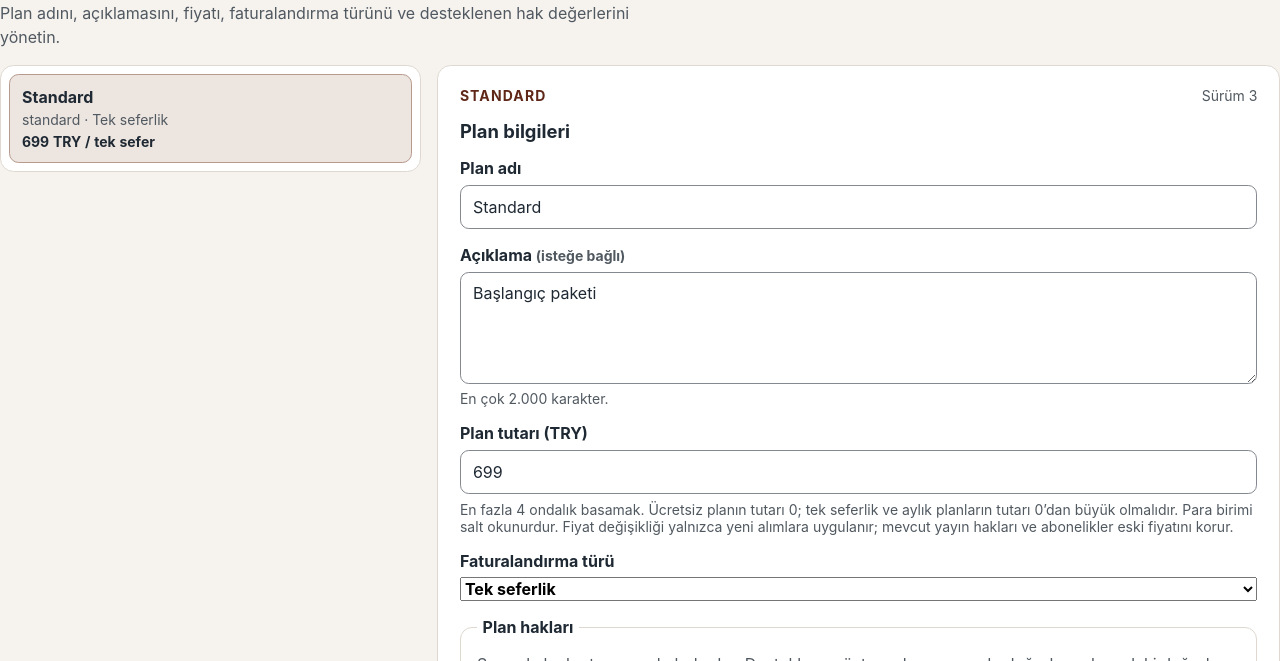
Admin plan management › shows a billing-type confirmation and rejects free type when displayed price is nonzero
expect the heading "Plan bilgileri" is shown: met, box left=460, top=120, right=570, bottom=142
Step 1. Select "Aylık" in the dropdown labelled "Faturalandırma türü" → (859, 589), box left=460, top=577, right=1257, bottom=601
(page scrolled)
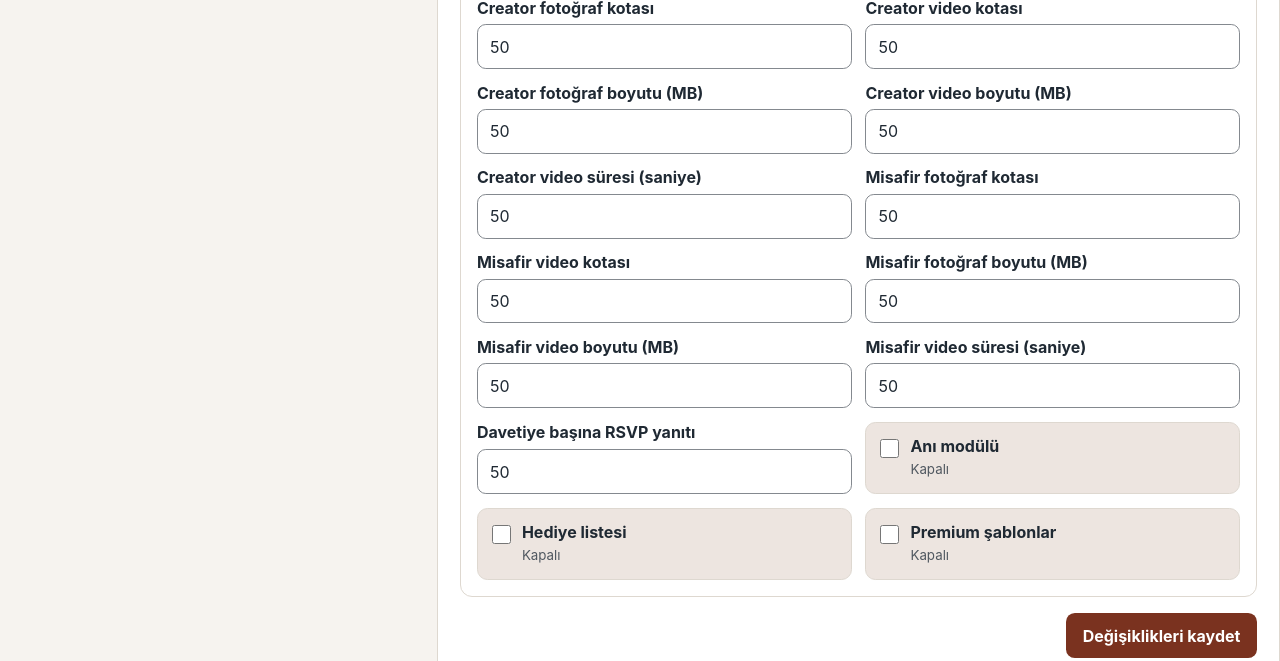
Step 2. Click the button "Değişiklikleri kaydet" → (1162, 636), box left=1066, top=613, right=1257, bottom=658
(page scrolled)
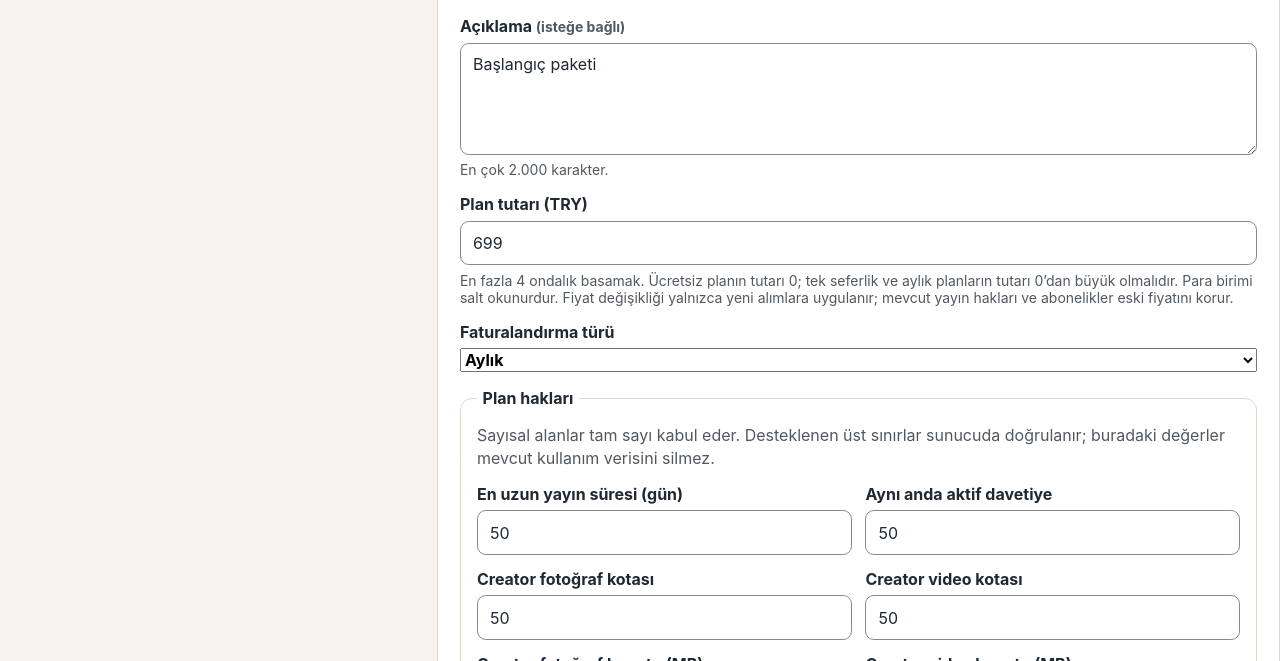
Step 3. Select "Ücretsiz" in the dropdown labelled "Faturalandırma türü" → (859, 360), box left=460, top=348, right=1257, bottom=372
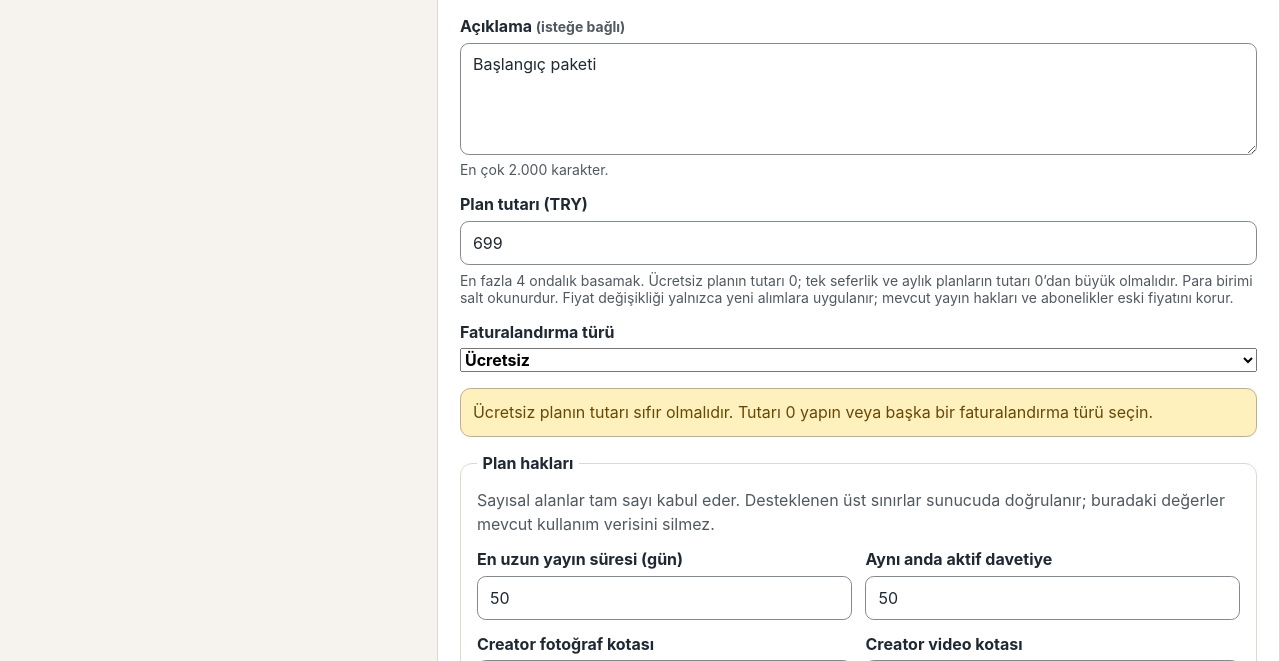
expect the text "tutarı sıfır olmalıdır" is shown: met, box left=473, top=402, right=1153, bottom=422
Step 4. Replace the text in the number field labelled "Plan tutarı" with "0" → (859, 243), box left=460, top=220, right=1257, bottom=265
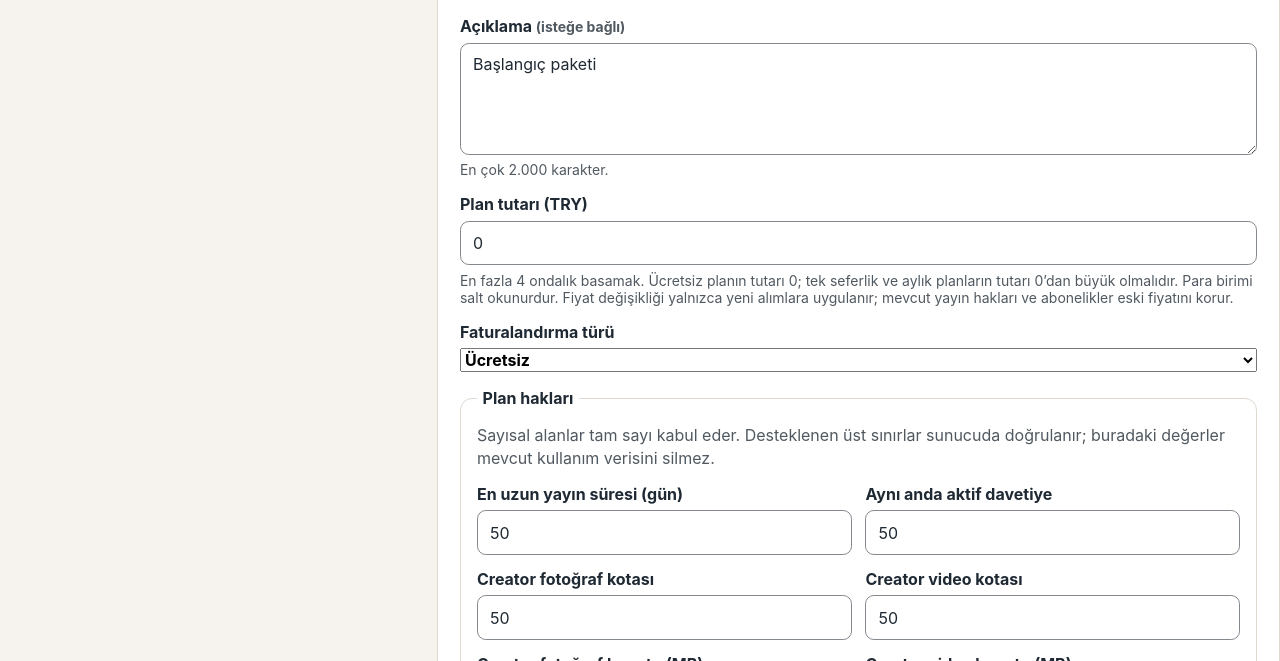
Step 5. Select "Aylık" in the dropdown labelled "Faturalandırma türü" → (859, 360), box left=460, top=348, right=1257, bottom=372
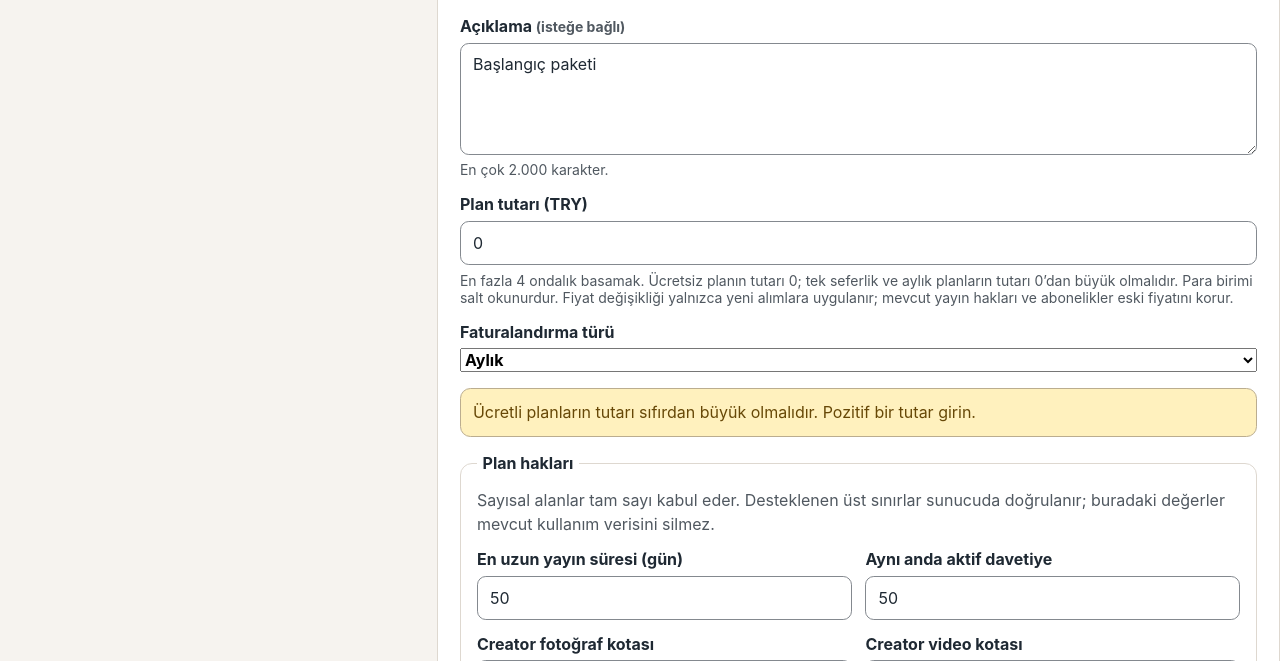
expect the text "sıfırdan büyük olmalıdır" is shown: met, box left=473, top=402, right=976, bottom=422
Step 6. Replace the text in the number field labelled "Plan tutarı" with "0.01" → (859, 243), box left=460, top=220, right=1257, bottom=265
(page scrolled)
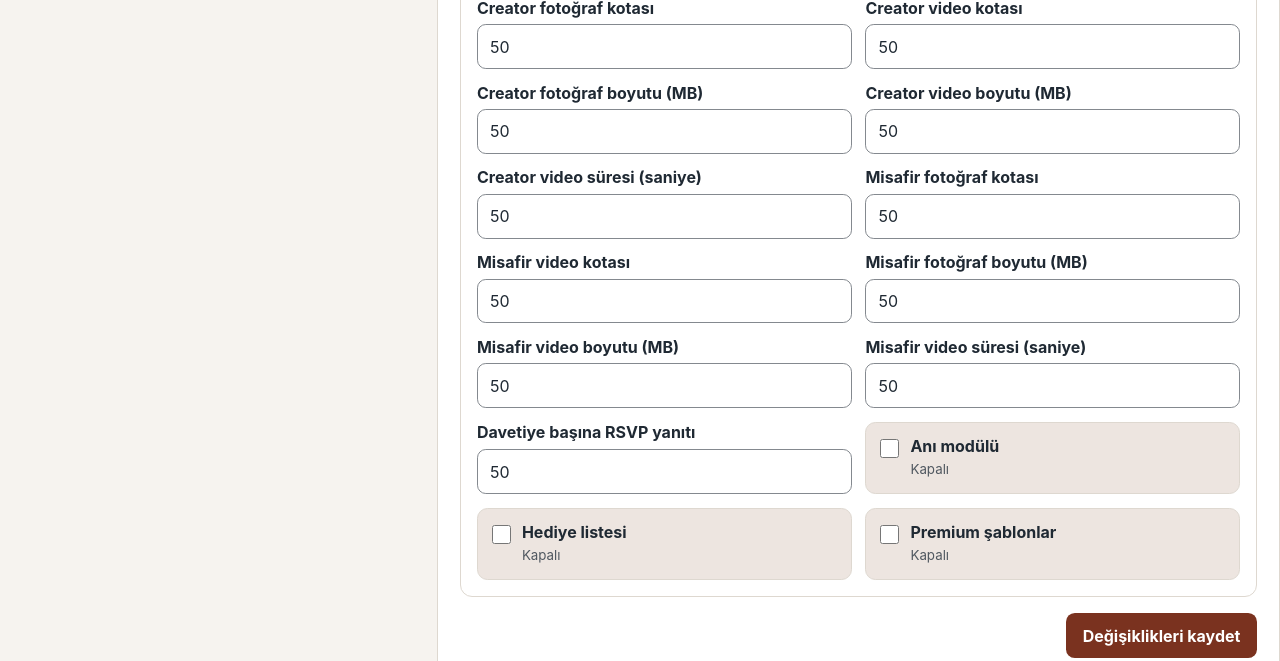
expect the button "Değişiklikleri kaydet" is enabled: met, box left=1066, top=613, right=1257, bottom=658
